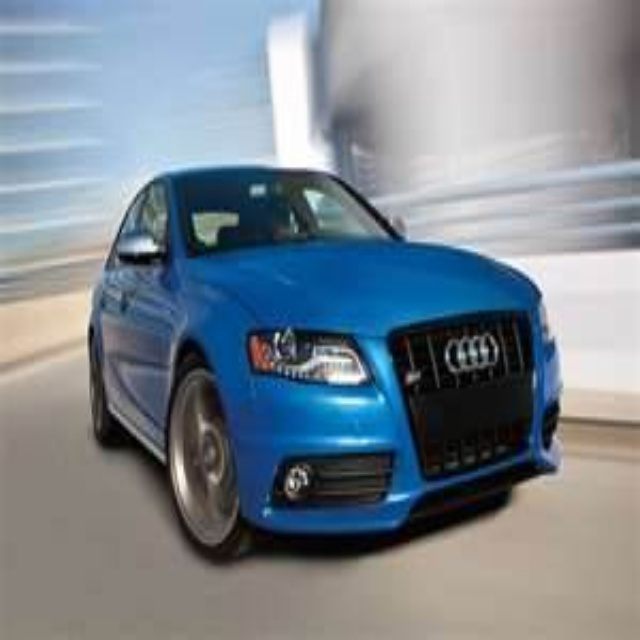Car: (87, 165, 563, 566)
